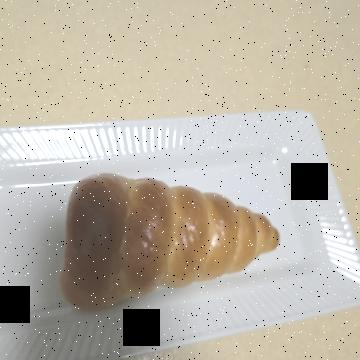cream horn: (155, 70, 315, 314)
